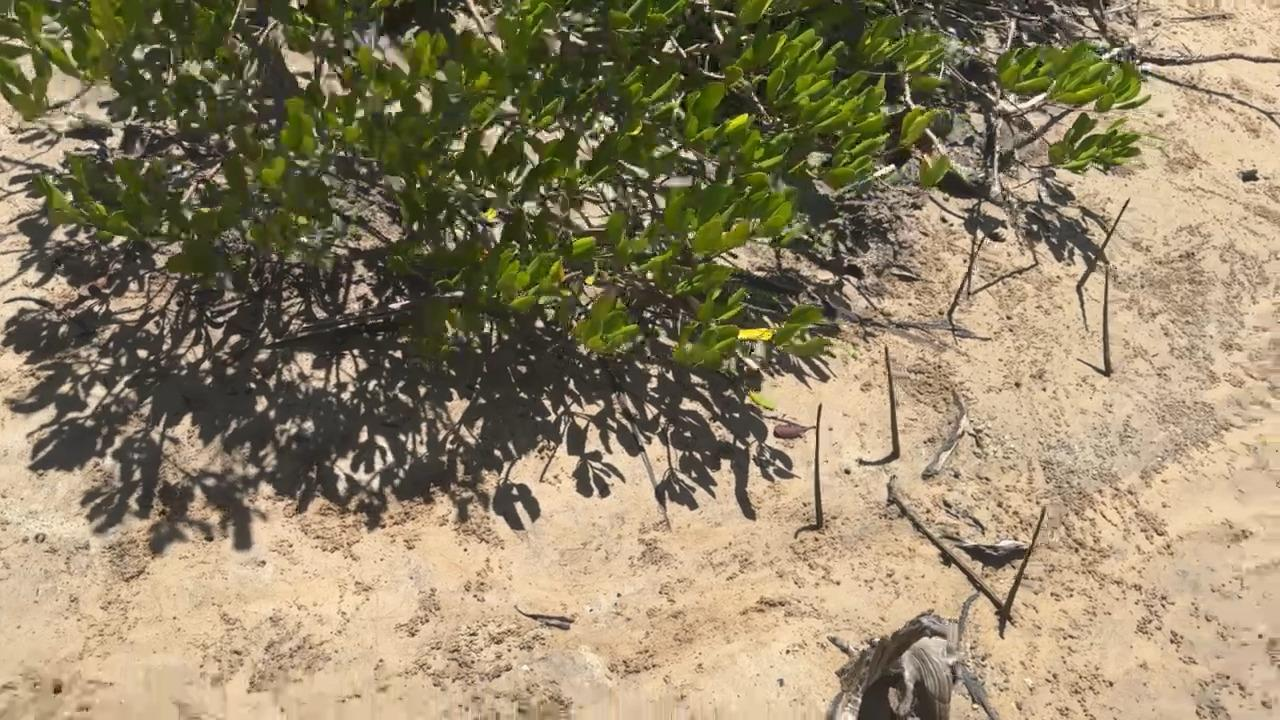Tree: (999, 505, 1047, 619), (1075, 196, 1132, 290), (947, 234, 987, 316), (1003, 203, 1040, 267), (883, 344, 902, 459), (1101, 261, 1114, 376), (814, 403, 823, 528)
